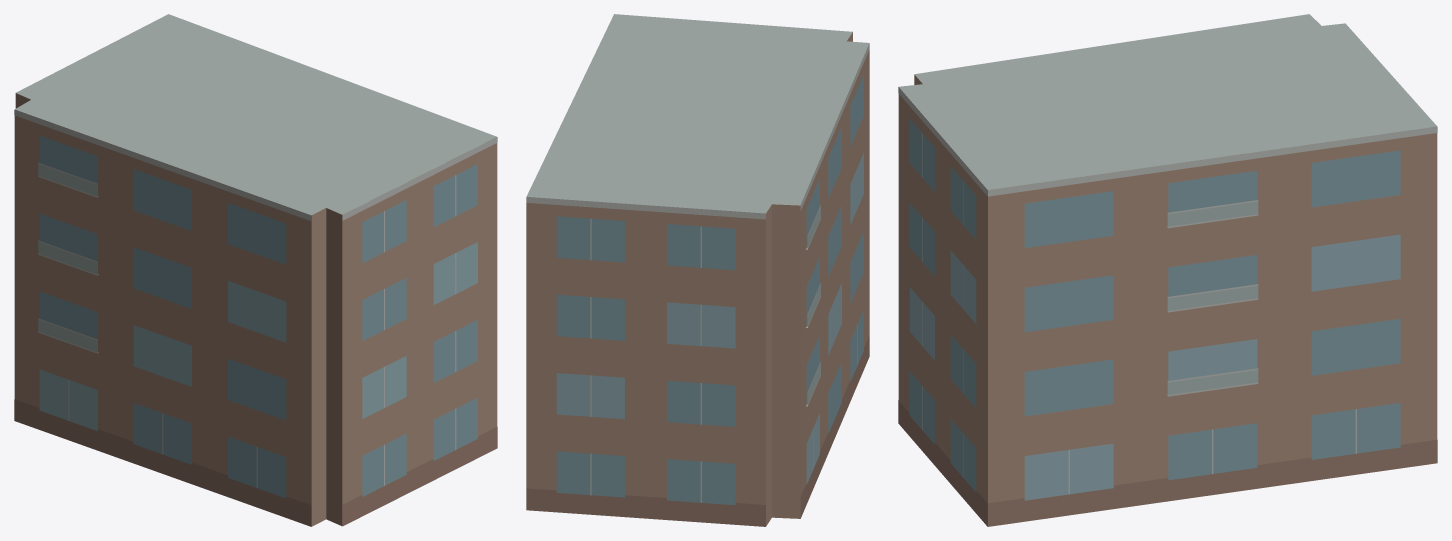
The model's file is survey-upis-32912622.glb.
The picture shows the model from 3 angles, left to right: view 1: azimuth 30°, elevation 25°; view 2: azimuth 150°, elevation 25°; view 3: azimuth 270°, elevation 25°; orthographic projection. The views are drawn at different scales.
Visible parts, largest first — view 1: survey-upis-32912622.tmp; view 2: survey-upis-32912622.tmp; view 3: survey-upis-32912622.tmp.
Boxes of the visible parts, bbox=[...] form: survey-upis-32912622.tmp: bbox=[14, 14, 497, 526]; survey-upis-32912622.tmp: bbox=[526, 14, 869, 526]; survey-upis-32912622.tmp: bbox=[898, 14, 1437, 526].
Size of the model in its own units: 14.38 by 12.8 by 18.58.
